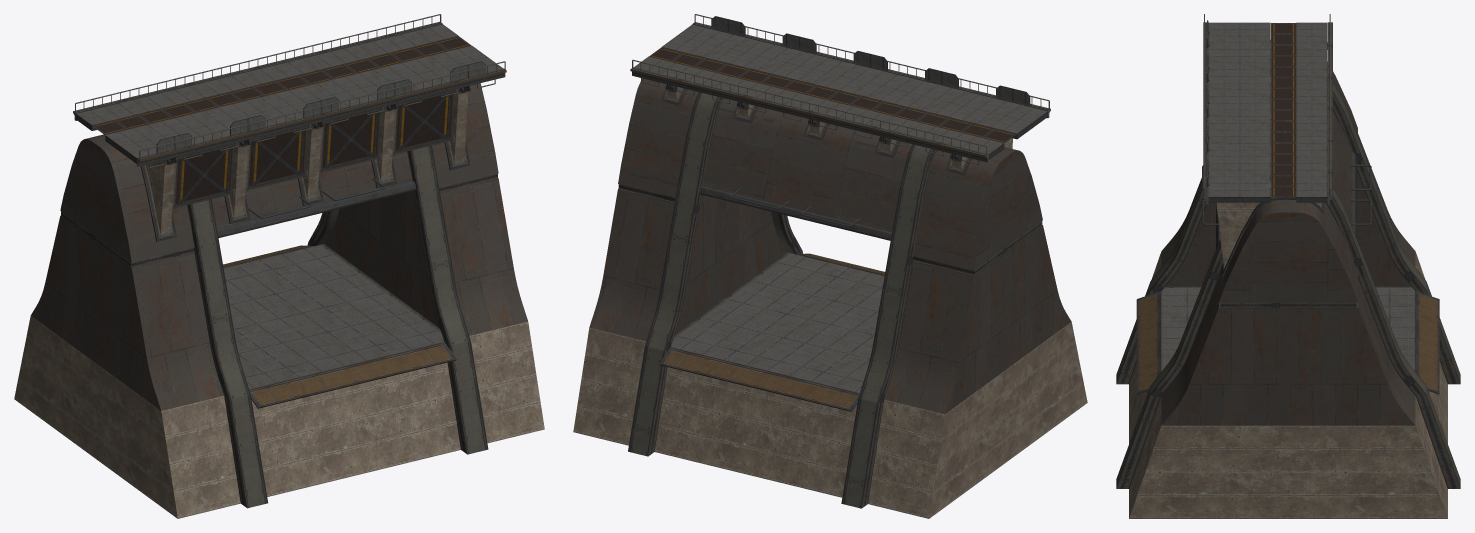
Rendered from Wall1_Gate.fbx.
The picture shows the model from 3 angles, left to right: view 1: azimuth 30°, elevation 25°; view 2: azimuth 150°, elevation 25°; view 3: azimuth 270°, elevation 25°; orthographic projection. The views are drawn at different scales.
Visible parts, largest first — view 1: polySurface901; view 2: polySurface901; view 3: polySurface901.
Boxes of the visible parts, left/top/right/bottom form: polySurface901: left=14, top=14, right=544, bottom=518; polySurface901: left=573, top=14, right=1087, bottom=518; polySurface901: left=1116, top=14, right=1460, bottom=518.
Size of the model in its own units: 4000 by 3587 by 3338.
